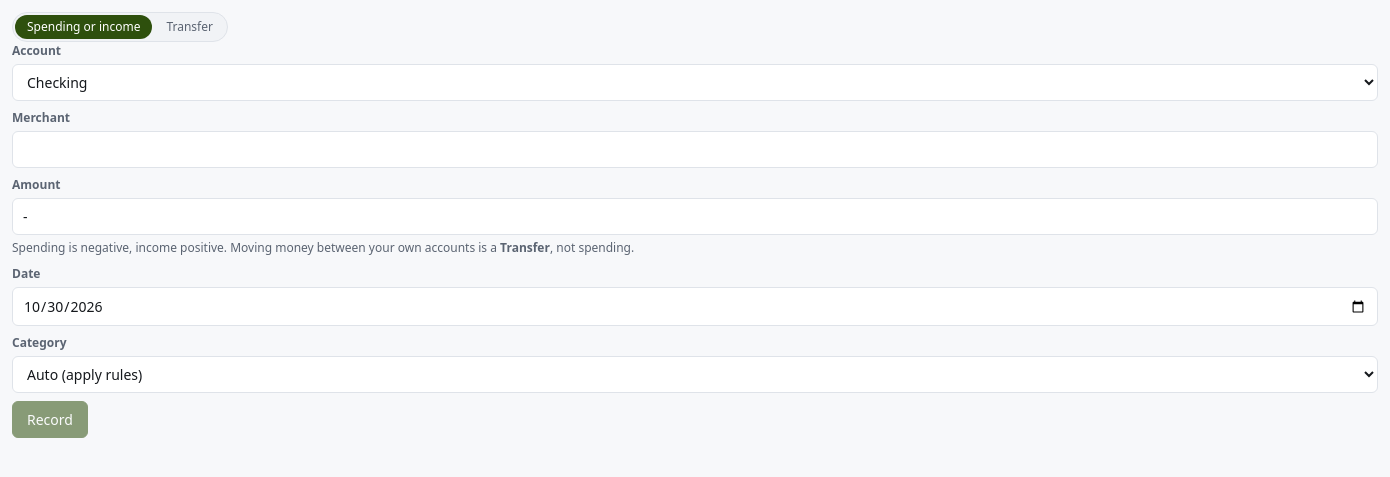
Test case: recording spending or income › says it worked and puts the cursor back on the merchant, ready for the next entry
Type "Cafe" into the field labelled "Merchant" at (695, 150), box x1=12 y1=131 x2=1378 y2=168
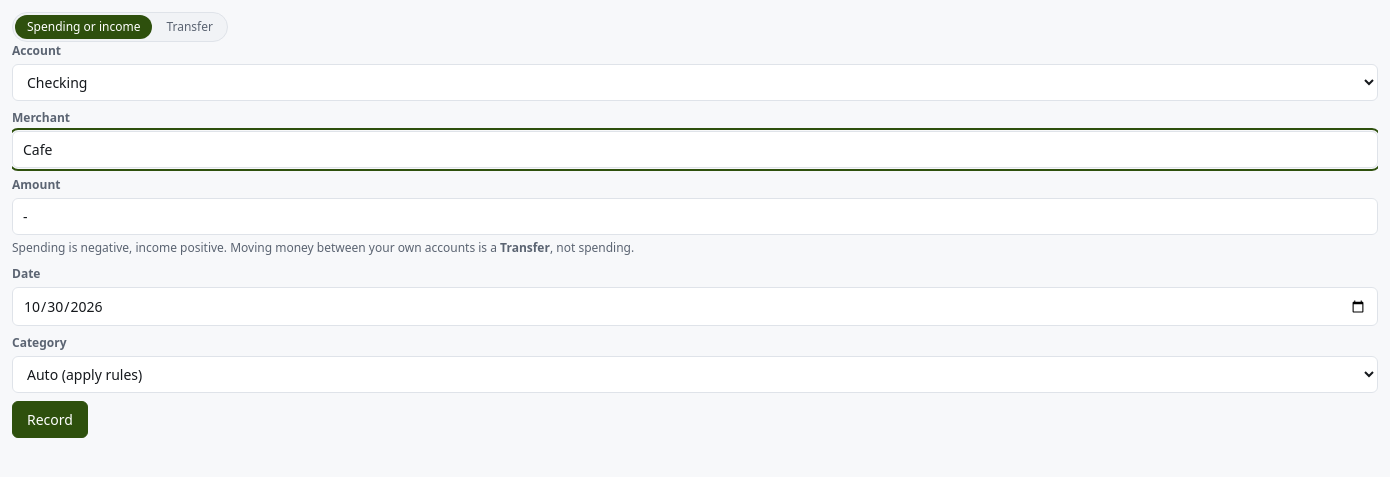
Type "4" into the field labelled "Amount" at (695, 217), box x1=12 y1=198 x2=1378 y2=235
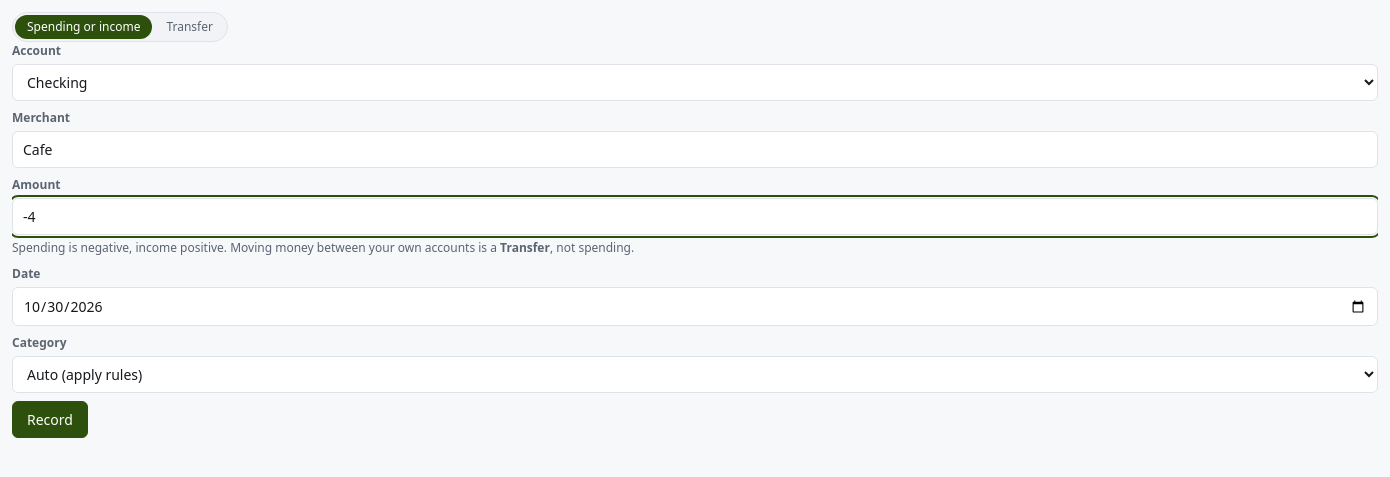
Click the button "Record" at (50, 420), box x1=12 y1=401 x2=88 y2=438
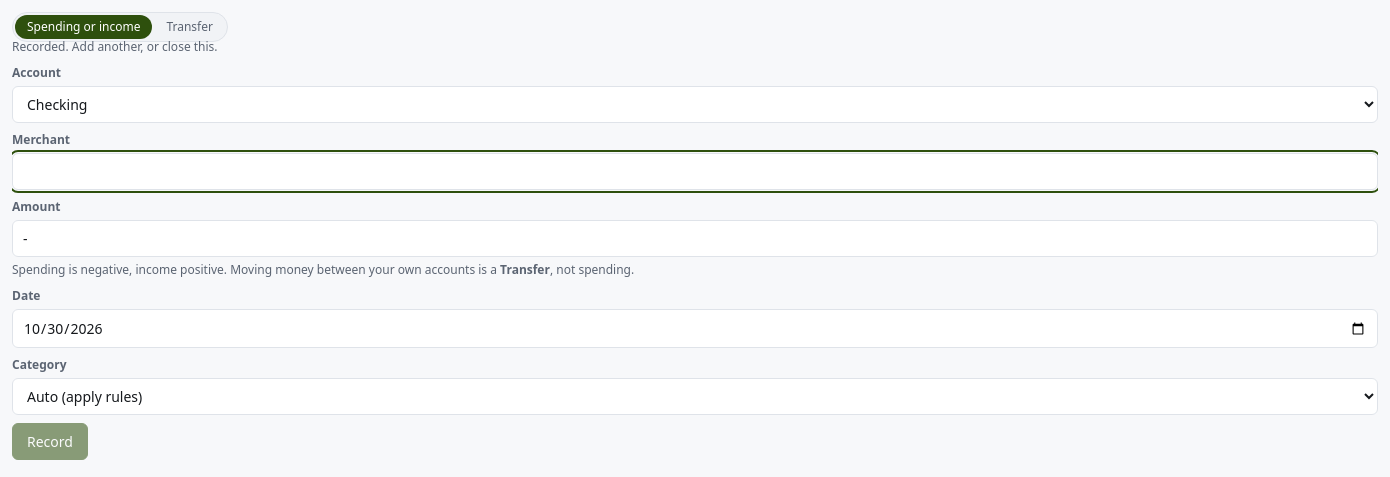
Check: the message reads "Recorded. Add another, or close this.", box x1=12 y1=38 x2=218 y2=55
